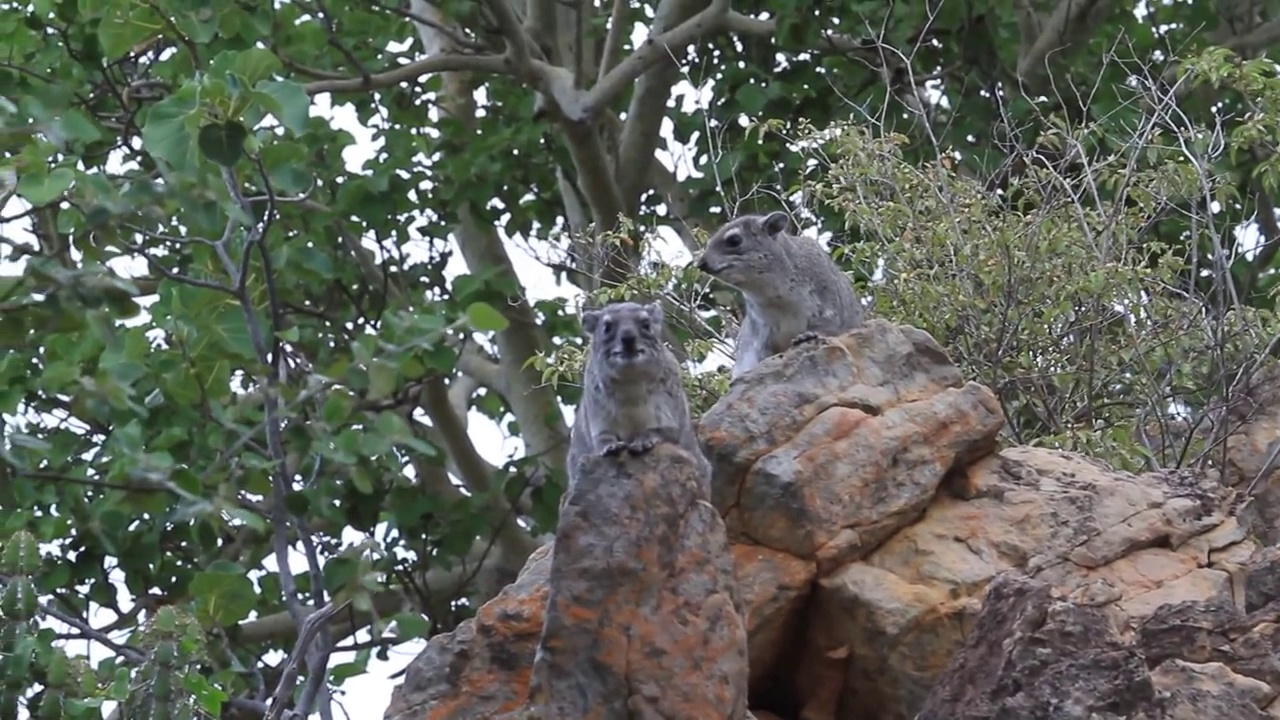Rock Hyrex: (691, 209, 878, 384), (571, 298, 709, 484)
